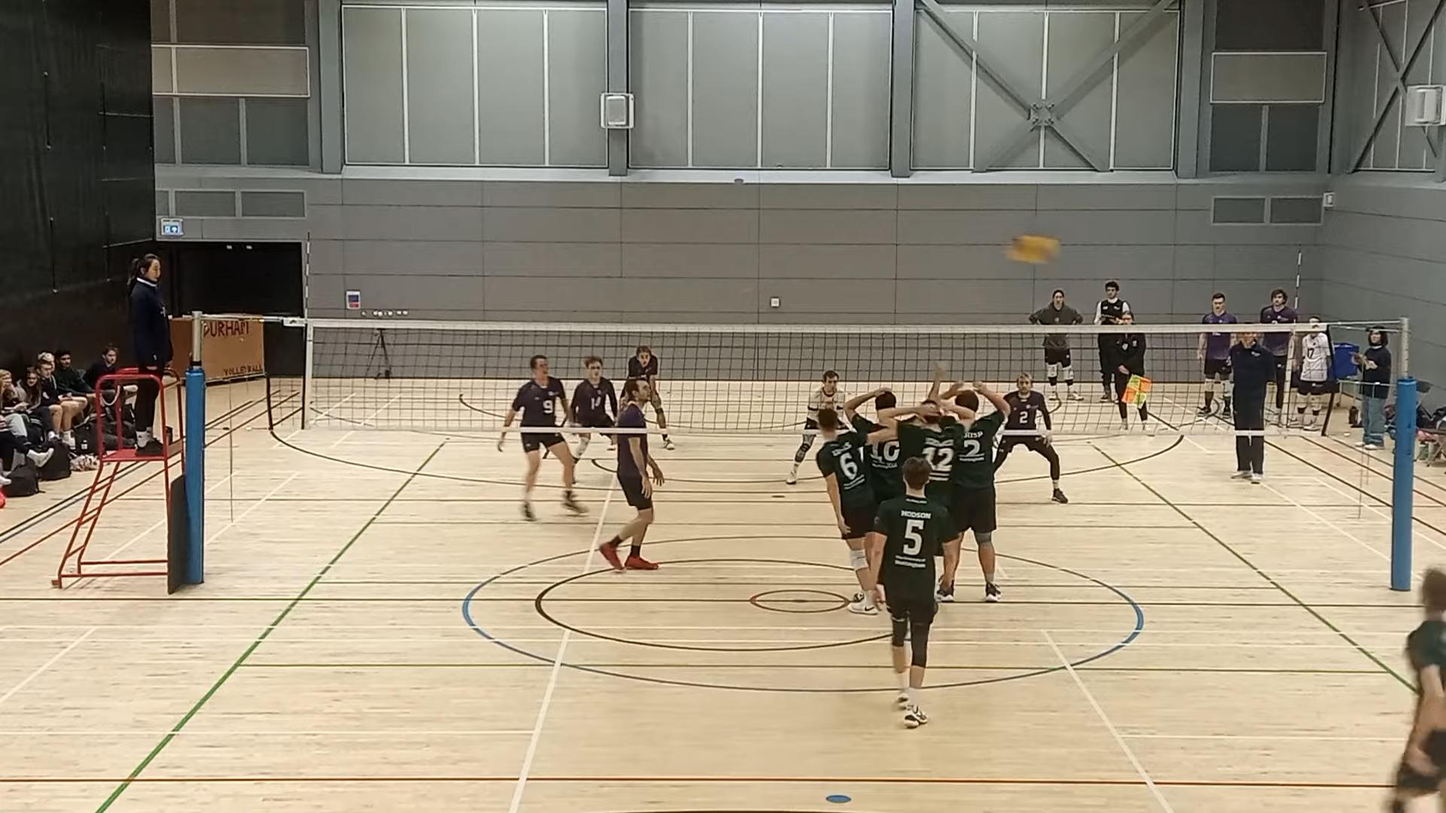Player: (870, 458, 958, 727), (816, 407, 894, 614), (946, 381, 1011, 601), (1389, 568, 1445, 812), (877, 388, 975, 505), (993, 373, 1068, 503), (599, 432, 664, 570), (786, 370, 844, 485), (521, 431, 584, 520), (628, 346, 674, 449), (571, 356, 618, 428), (844, 388, 895, 434)
ball: (1008, 228, 1058, 270)
